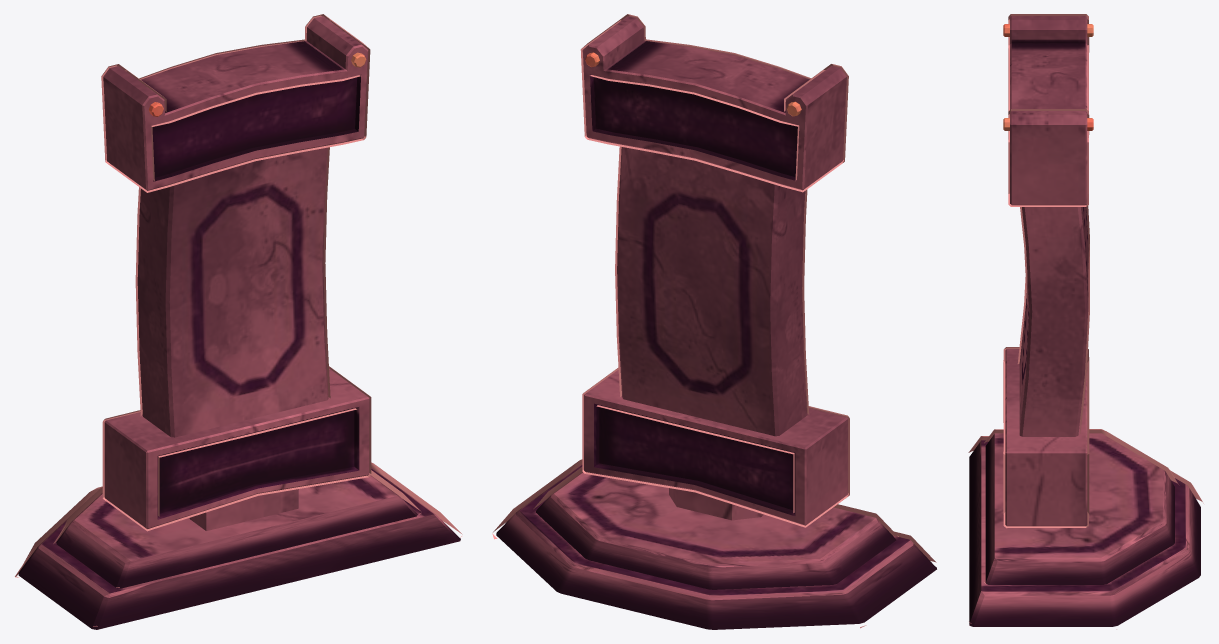
Rendered from entity429708.gltf.
3 views of the same model, side by side, from view 1: azimuth 30°, elevation 25°; view 2: azimuth 150°, elevation 25°; view 3: azimuth 270°, elevation 25° (orthographic). The views are drawn at different scales.
Visible parts, largest first — view 1: node_mesh_signal_02; view 2: node_mesh_signal_02; view 3: node_mesh_signal_02.
Part boxes in pixels (<box>): node_mesh_signal_02: <box>15,14,462,629</box>; node_mesh_signal_02: <box>492,14,936,629</box>; node_mesh_signal_02: <box>968,14,1203,629</box>.
Bounding box in the file's own units: 239 × 306 × 136.
2 materials, 1 textured.
